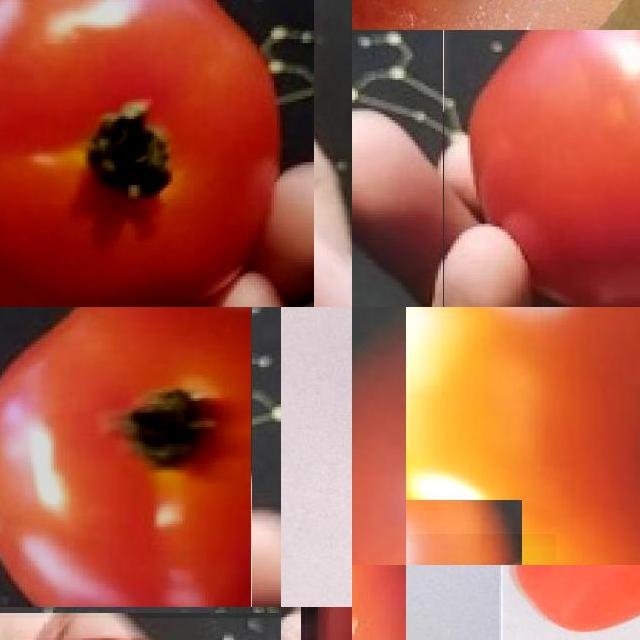0: (406, 307, 640, 565), (352, 307, 406, 565), (500, 565, 640, 640)
Fresh Tomato: (0, 0, 314, 307), (0, 307, 251, 607), (443, 30, 640, 307)
